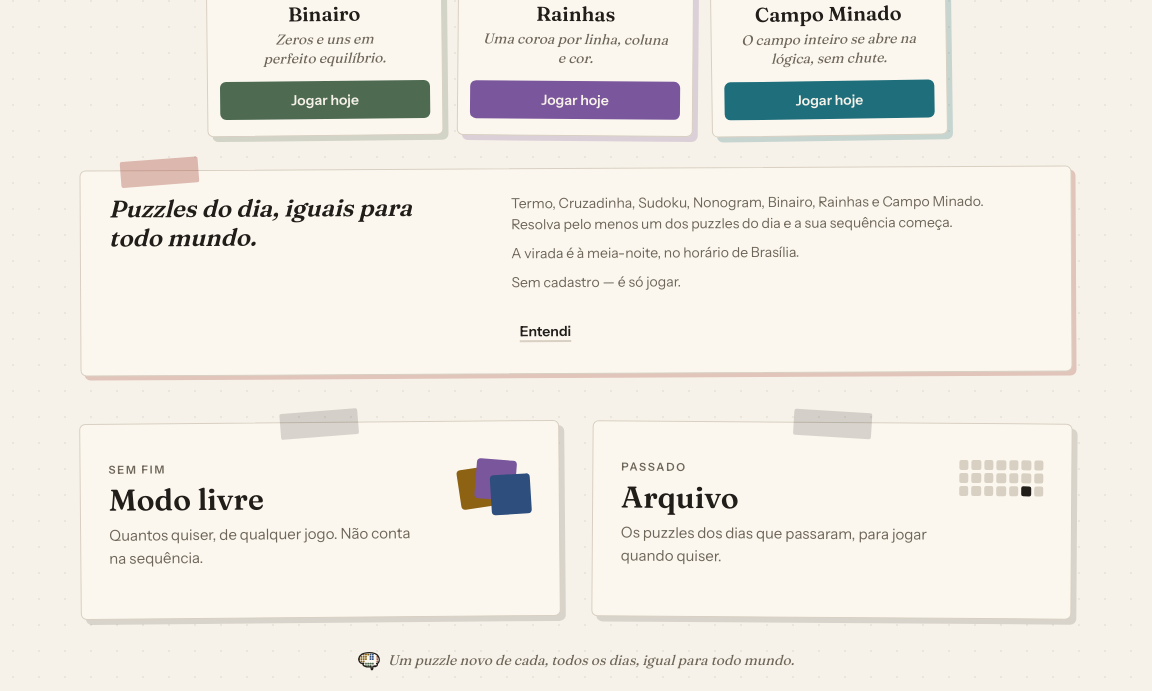
Test: the hub with the card never blocks play (T-WEB-S248) › all game links PRECEDE the card in document order, nothing is modal, and dismiss moves focus to the first game card's link — never <body>
(page scrolled)
Click the button "Entendi".
click(545, 331)  # box [512,309,579,354]
(page scrolled)
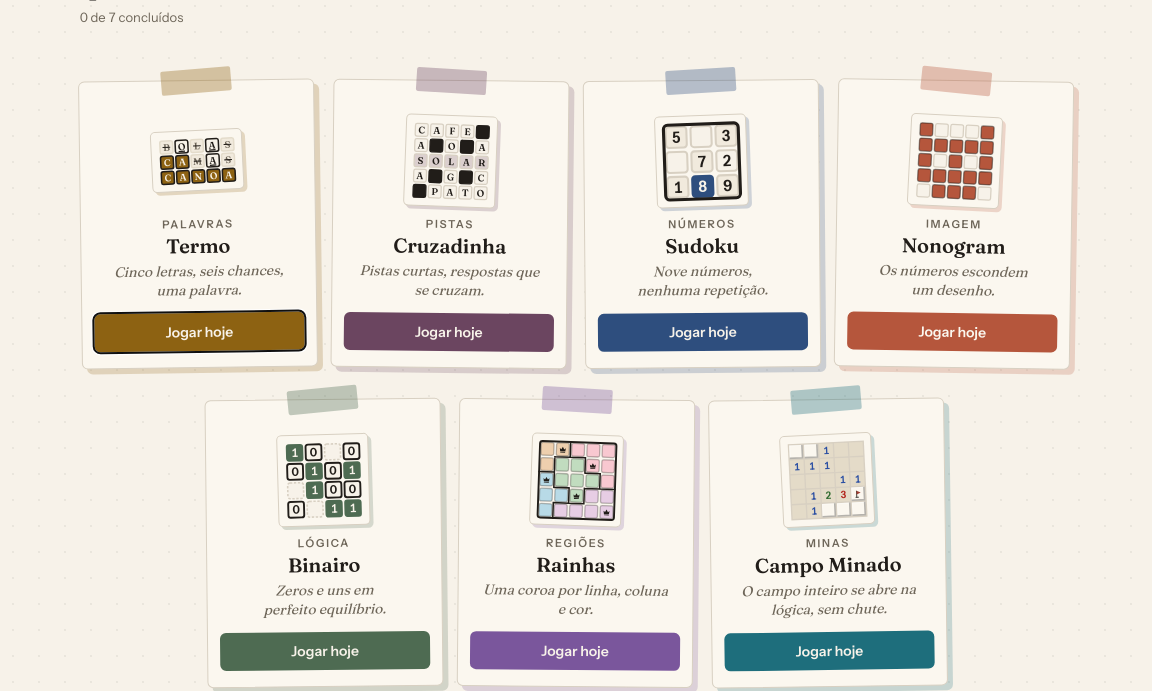
Check: the heading "Puzzles do dia, iguais para todo mundo." is gone
